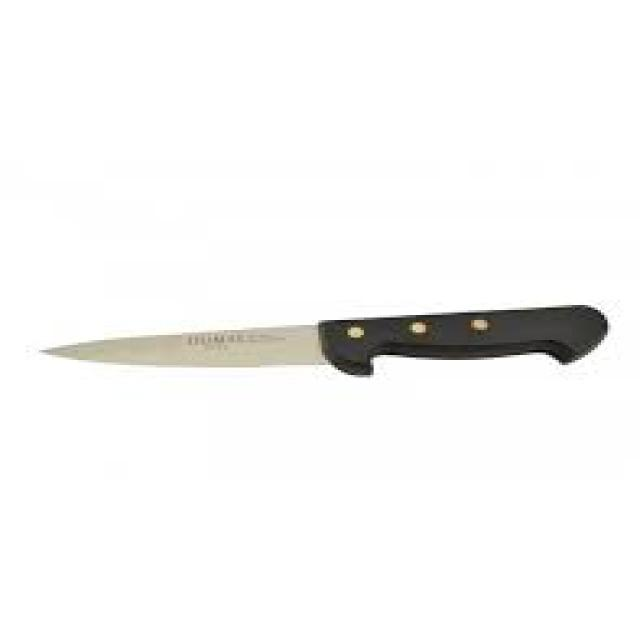knife: (37, 299, 616, 397)
